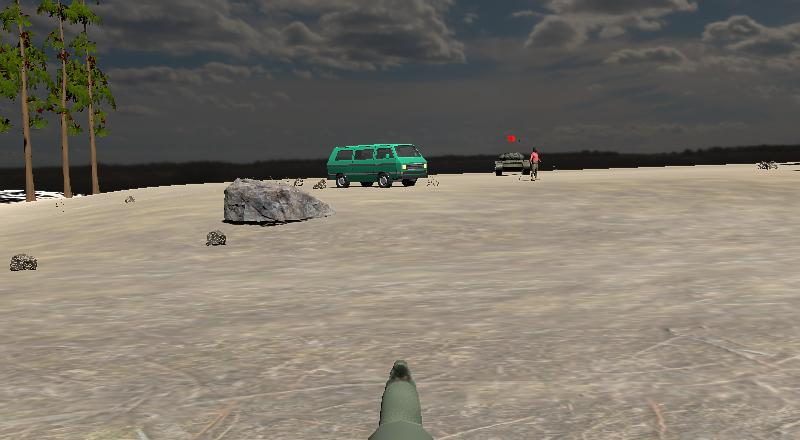Human: (528, 146, 543, 183)
Tank: (492, 150, 533, 178)
car: (325, 141, 430, 190)
